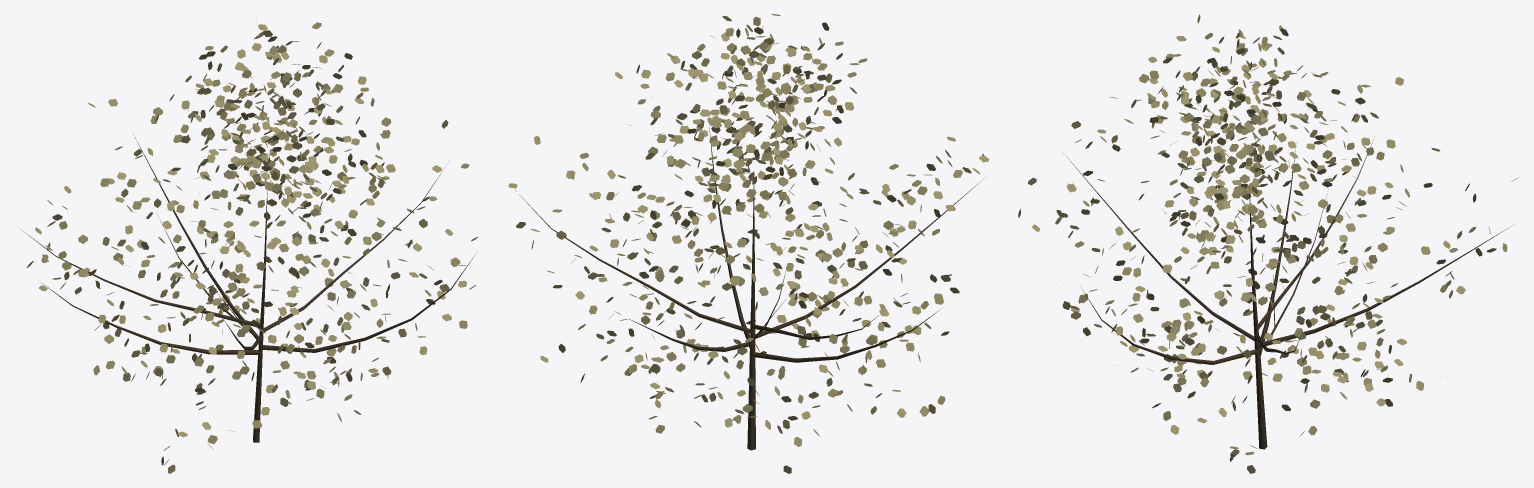
File: bush-tree-003.glb
The picture shows the model from 3 angles, left to right: view 1: azimuth 30°, elevation 25°; view 2: azimuth 150°, elevation 25°; view 3: azimuth 270°, elevation 25°; orthographic projection. The views are drawn at different scales.
Parts seen in each view (by area): view 1: v_tree.003; view 2: v_tree.003; view 3: v_tree.003.
Part boxes in pixels (x1,y1,x2,y2): v_tree.003: (18,22,477,473); v_tree.003: (508,14,989,473); v_tree.003: (1018,14,1518,473).
Bounding box in the file's own units: 4.21 × 3.86 × 4.13.
